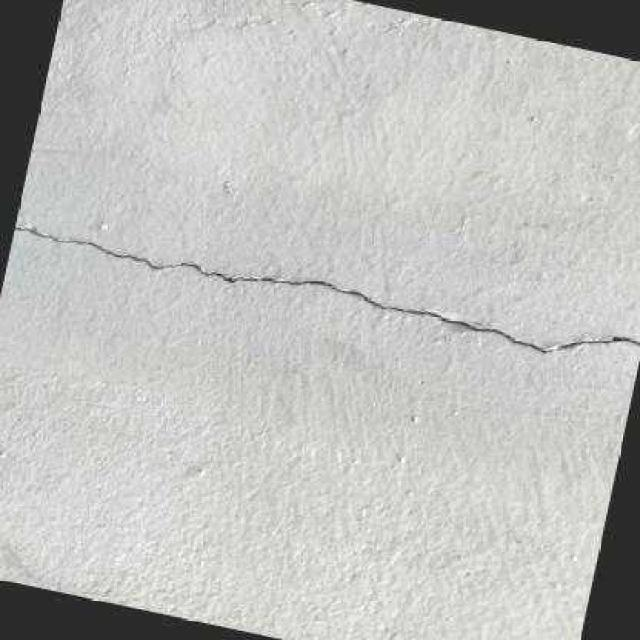D00: (12, 225, 640, 354)
